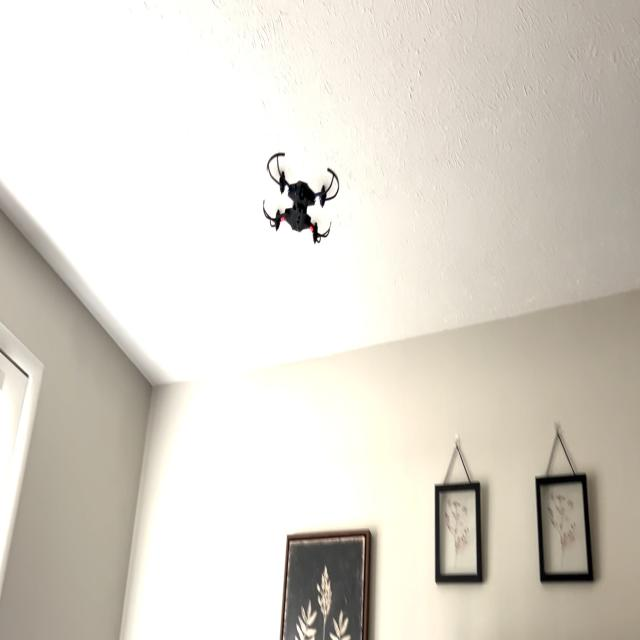drone: (258, 135, 342, 259)
